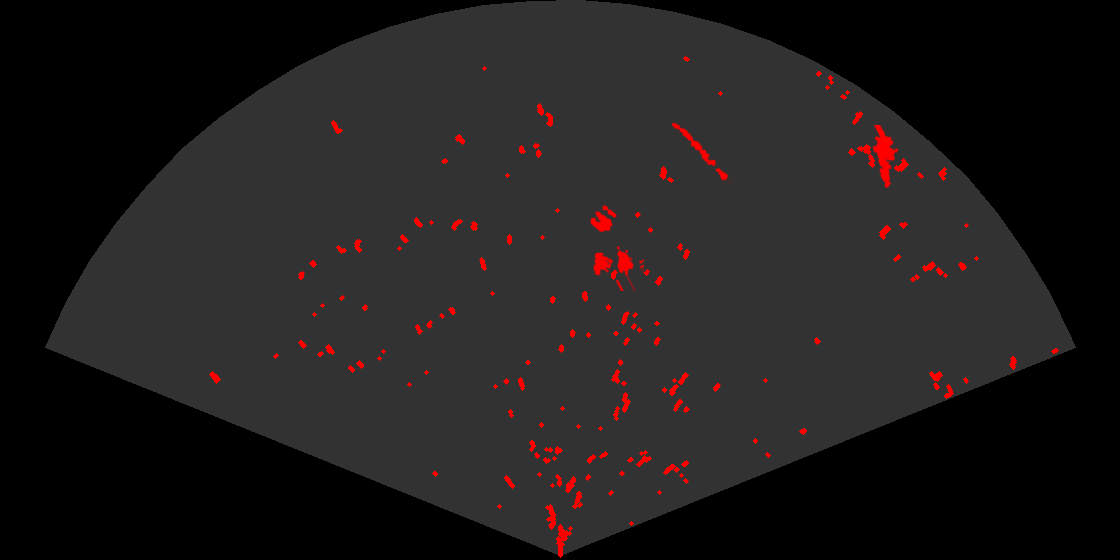ball: (589, 204, 618, 234)
cage: (592, 244, 644, 291)
chain: (670, 121, 734, 185)
frogman: (871, 125, 900, 190)
